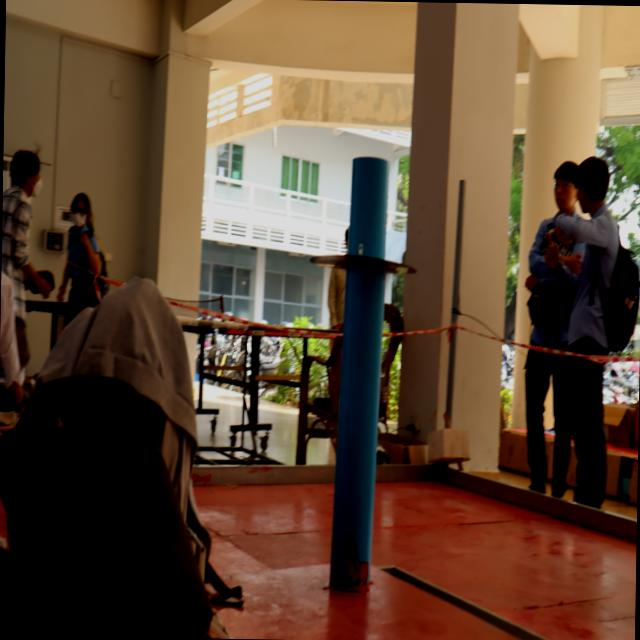pole: (312, 144, 424, 360)
